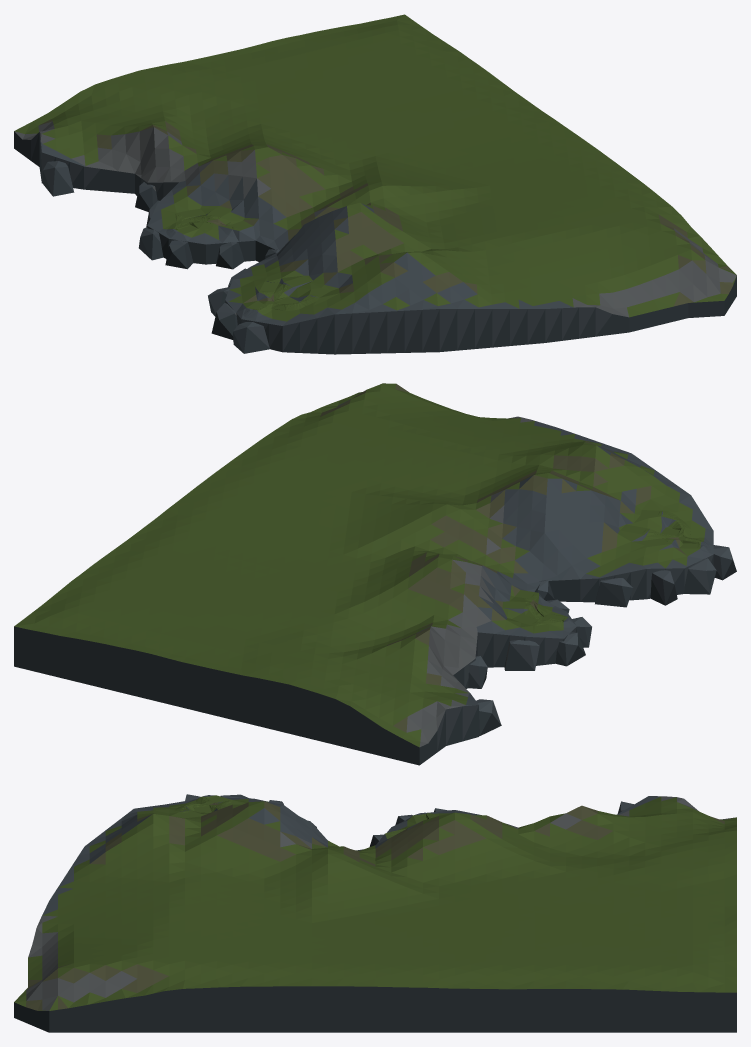
The model's file is mainland_headland.glb.
3 views of the same model, one above another, from view 1: azimuth 30°, elevation 25°; view 2: azimuth 150°, elevation 25°; view 3: azimuth 270°, elevation 25° (orthographic). The views are drawn at different scales.
Parts seen in each view (by area): view 1: Mainland headland continuous bedrock and grass terraces; view 2: Mainland headland continuous bedrock and grass terraces; view 3: Mainland headland continuous bedrock and grass terraces.
Boxes of the visible parts, x1=… form: Mainland headland continuous bedrock and grass terraces: x1=14, y1=14, x2=736, y2=354; Mainland headland continuous bedrock and grass terraces: x1=14, y1=383, x2=736, y2=765; Mainland headland continuous bedrock and grass terraces: x1=14, y1=794, x2=736, y2=1032.
Size of the model in its own units: 293 by 54.48 by 410.
